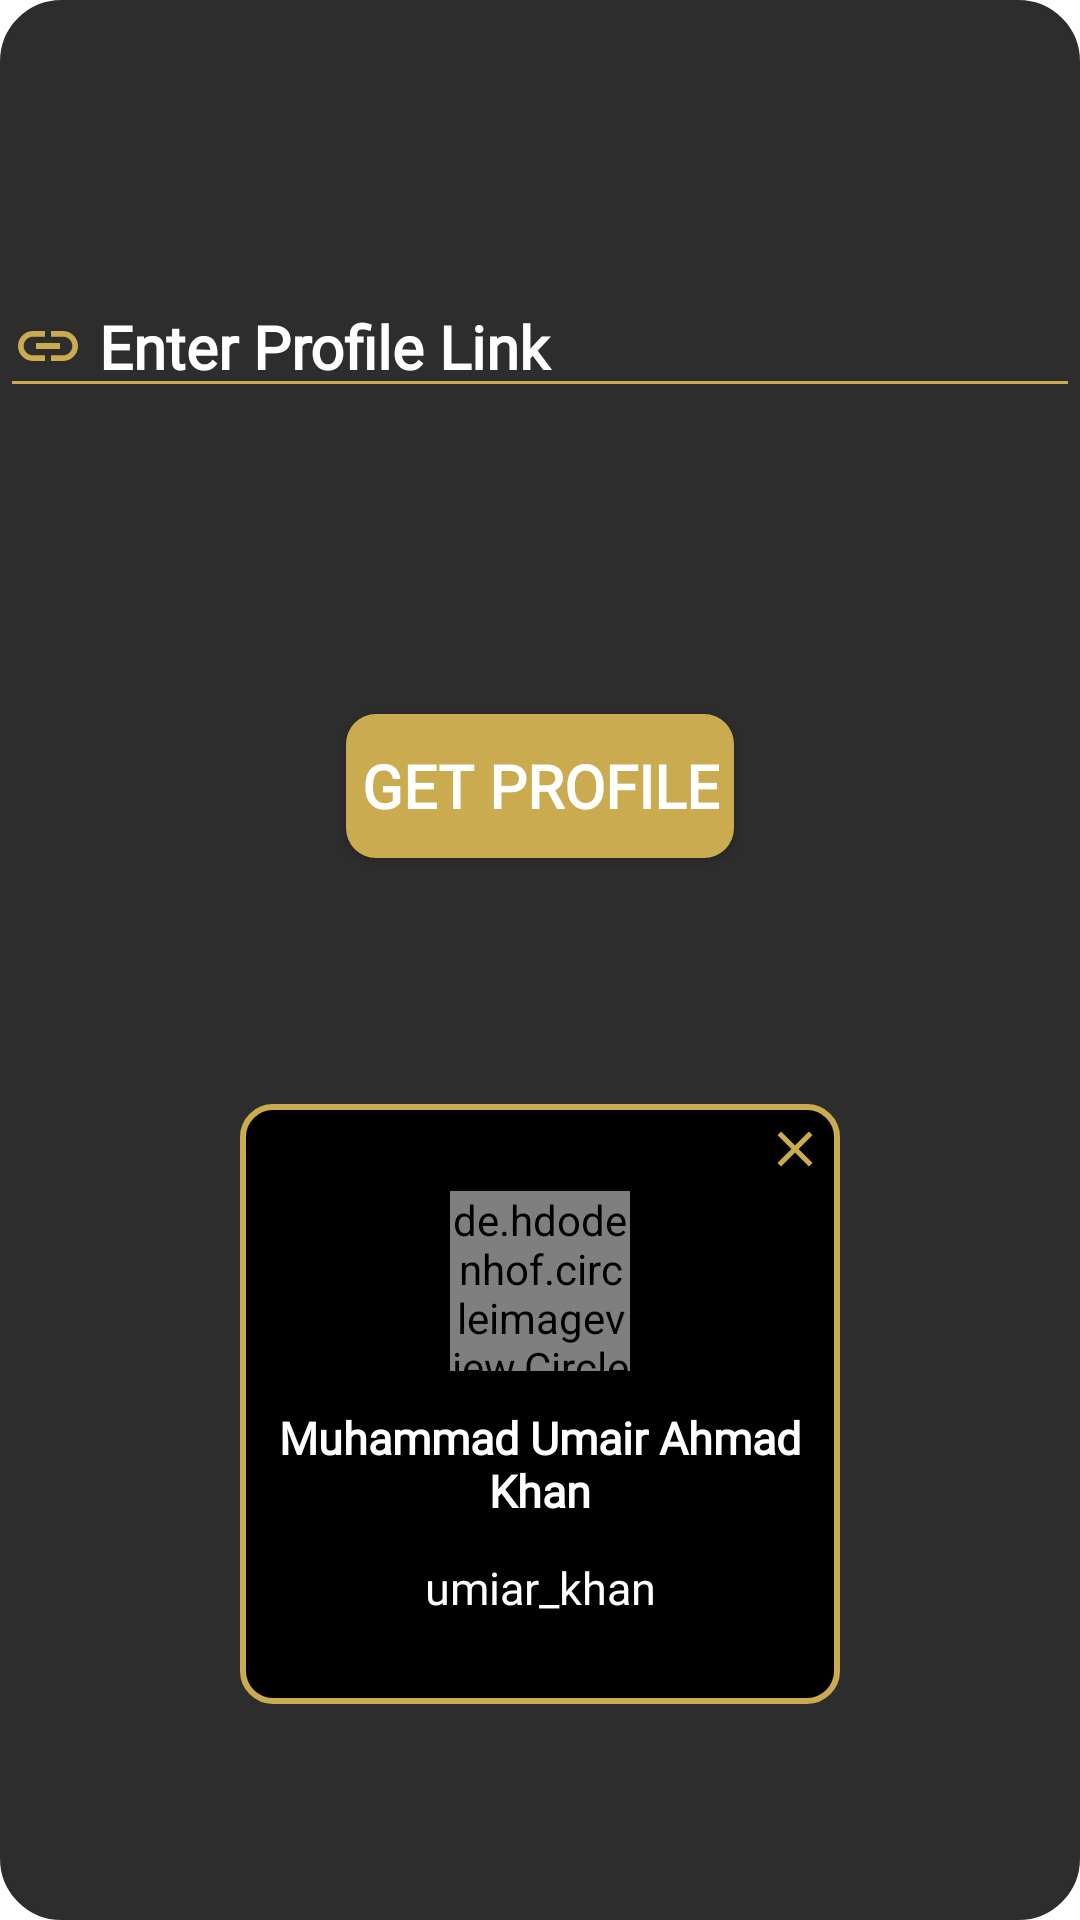

Icons on this 1080w x 1920h Android screen, each with the point to tap as [x,y]:
close: [795,1149]
